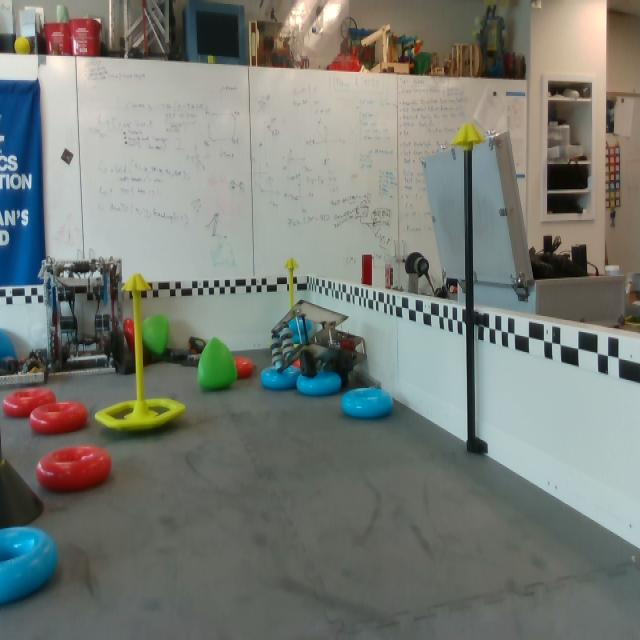Blue-Ring: (0, 527, 59, 609), (342, 387, 394, 416), (298, 369, 341, 398), (259, 364, 302, 390)
Mobile-Goal: (94, 275, 186, 436), (284, 256, 301, 312)
Red-Ring: (34, 447, 112, 496), (27, 400, 88, 433), (3, 388, 56, 420), (233, 358, 254, 382), (124, 316, 135, 356)
Yellow-Stake-Head: (451, 122, 486, 148), (121, 274, 152, 293), (284, 258, 299, 269)
